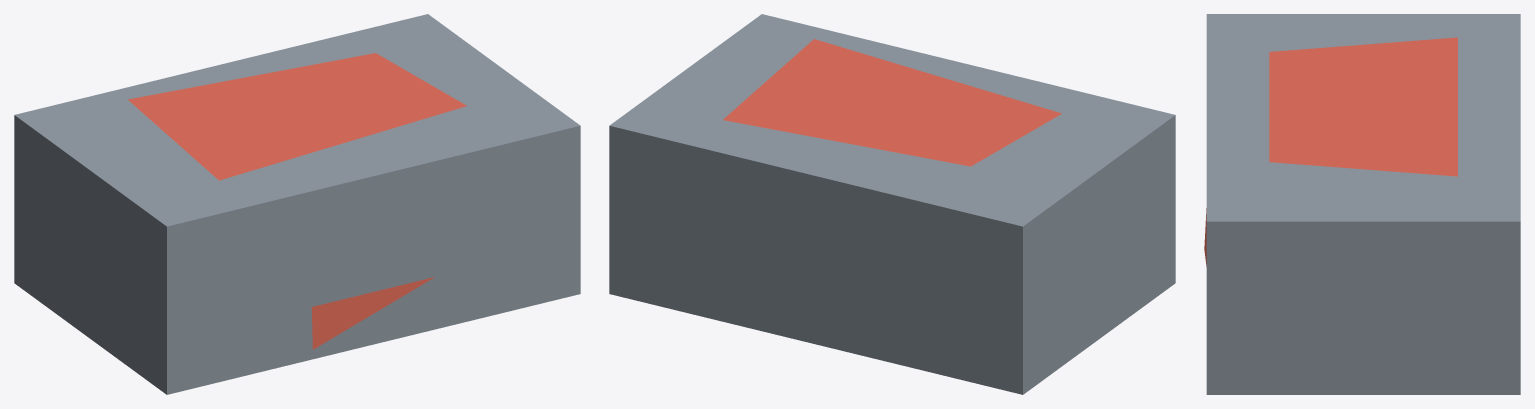
Rendered from SU_VoevodaHeavyTank_LOD1.glb.
3 renders of one model, left to right at view 1: azimuth 30°, elevation 25°; view 2: azimuth 150°, elevation 25°; view 3: azimuth 270°, elevation 25°, orthographic. The views are drawn at different scales.
Parts seen in each view (by area): view 1: EntranceGate; view 2: EntranceGate; view 3: EntranceGate.
Boxes of the visible parts, x1,y1,x2,y2 form: EntranceGate: (14,14,580,394); EntranceGate: (609,14,1175,394); EntranceGate: (1204,14,1520,394).
Bounding box in the file's own units: 720 × 309 × 463.
